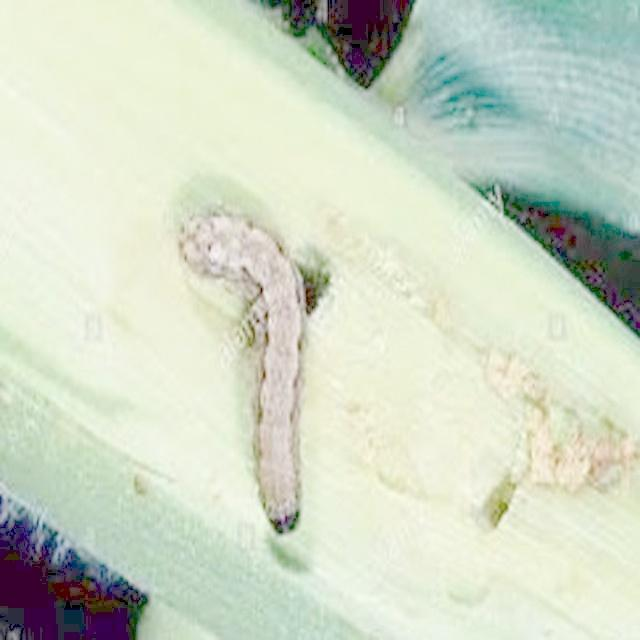gusano_cogollero: (174, 202, 307, 540)
